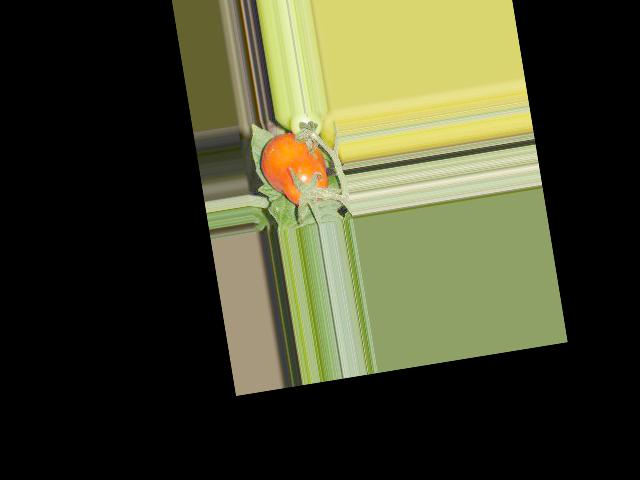tomato: (257, 128, 330, 210)
